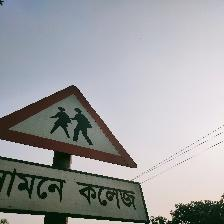College-in-front: (0, 51, 153, 224)
